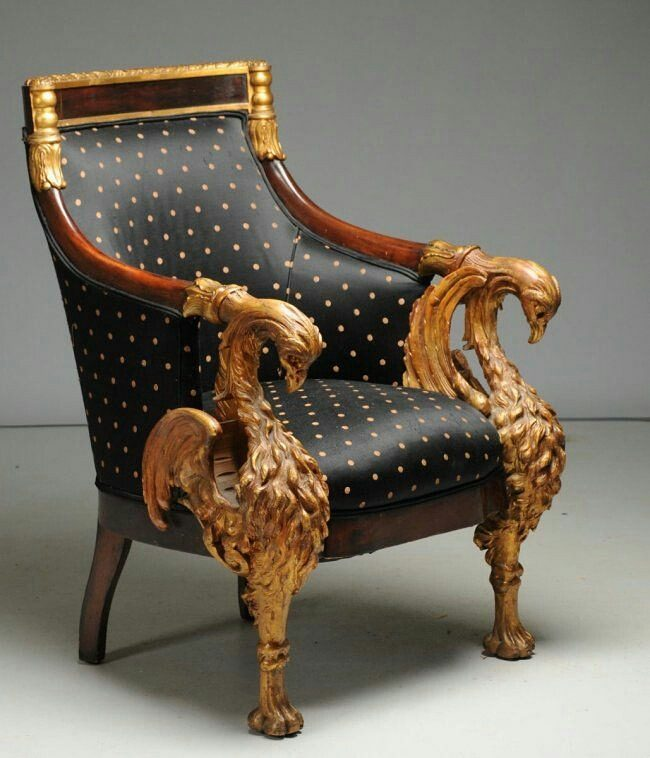Carving Chair: (29, 68, 559, 729)
